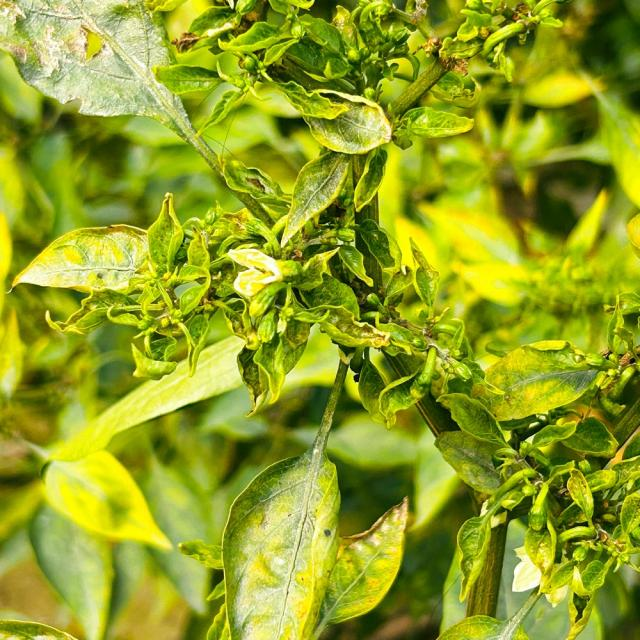Chilli_Leaf_Curl: (2, 1, 637, 638), (432, 294, 639, 638), (178, 350, 409, 639), (0, 0, 238, 191), (6, 191, 219, 380), (218, 448, 343, 638), (477, 338, 607, 422), (5, 222, 151, 296), (278, 149, 351, 249), (302, 89, 392, 155)
